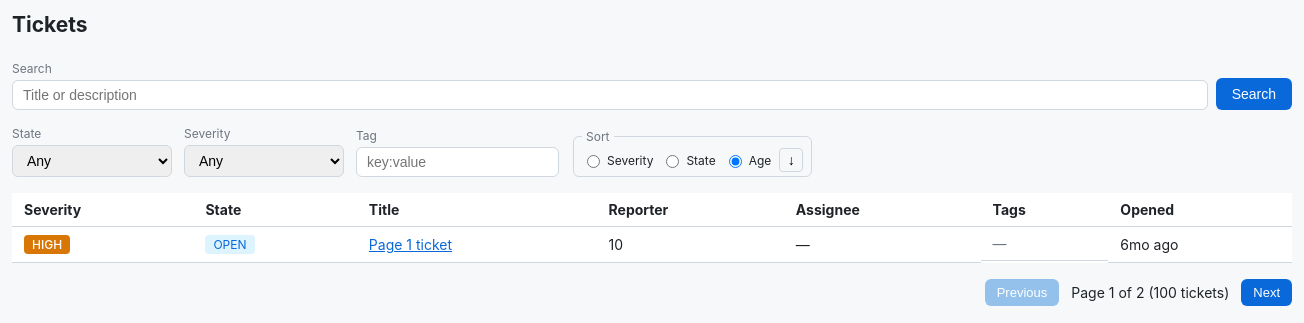
TicketListPage › paginates to the next page when Next is clicked
Expected: the link "Page 1 ticket" is shown, [369, 236, 452, 253]
Click the button "Next". click: (1267, 292)
box: [1241, 279, 1292, 306]
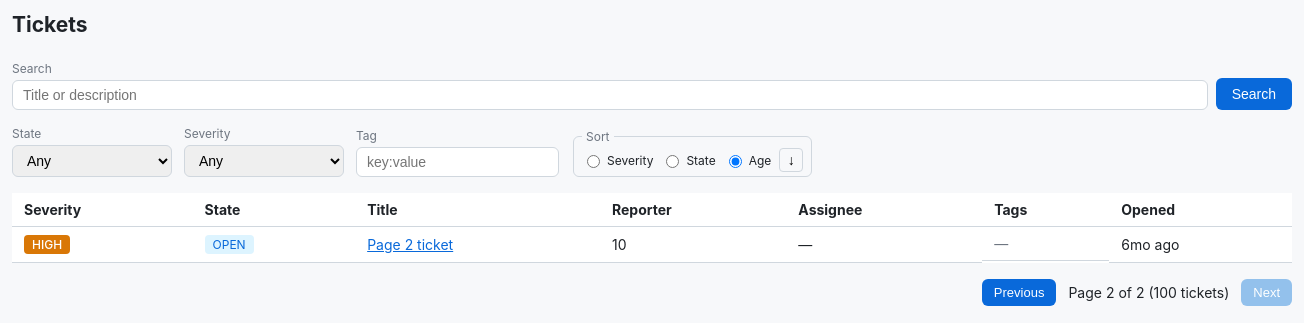
Now the link "Page 2 ticket" is shown, box [367, 236, 453, 253]
